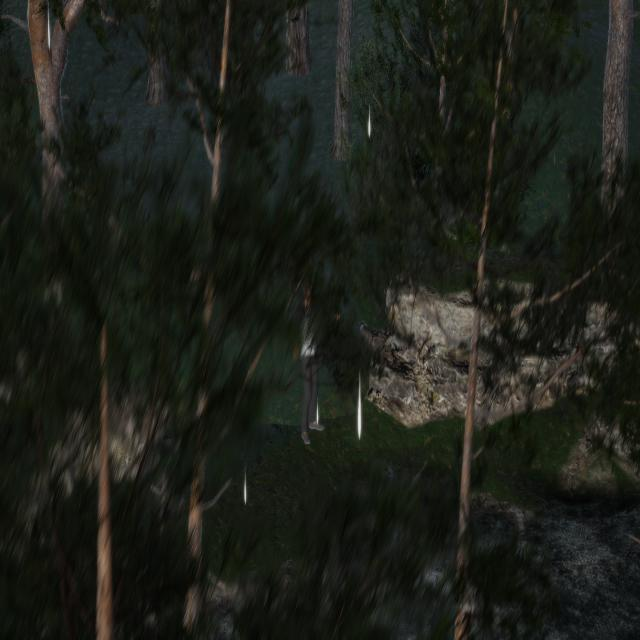Human: (291, 249, 333, 459)
